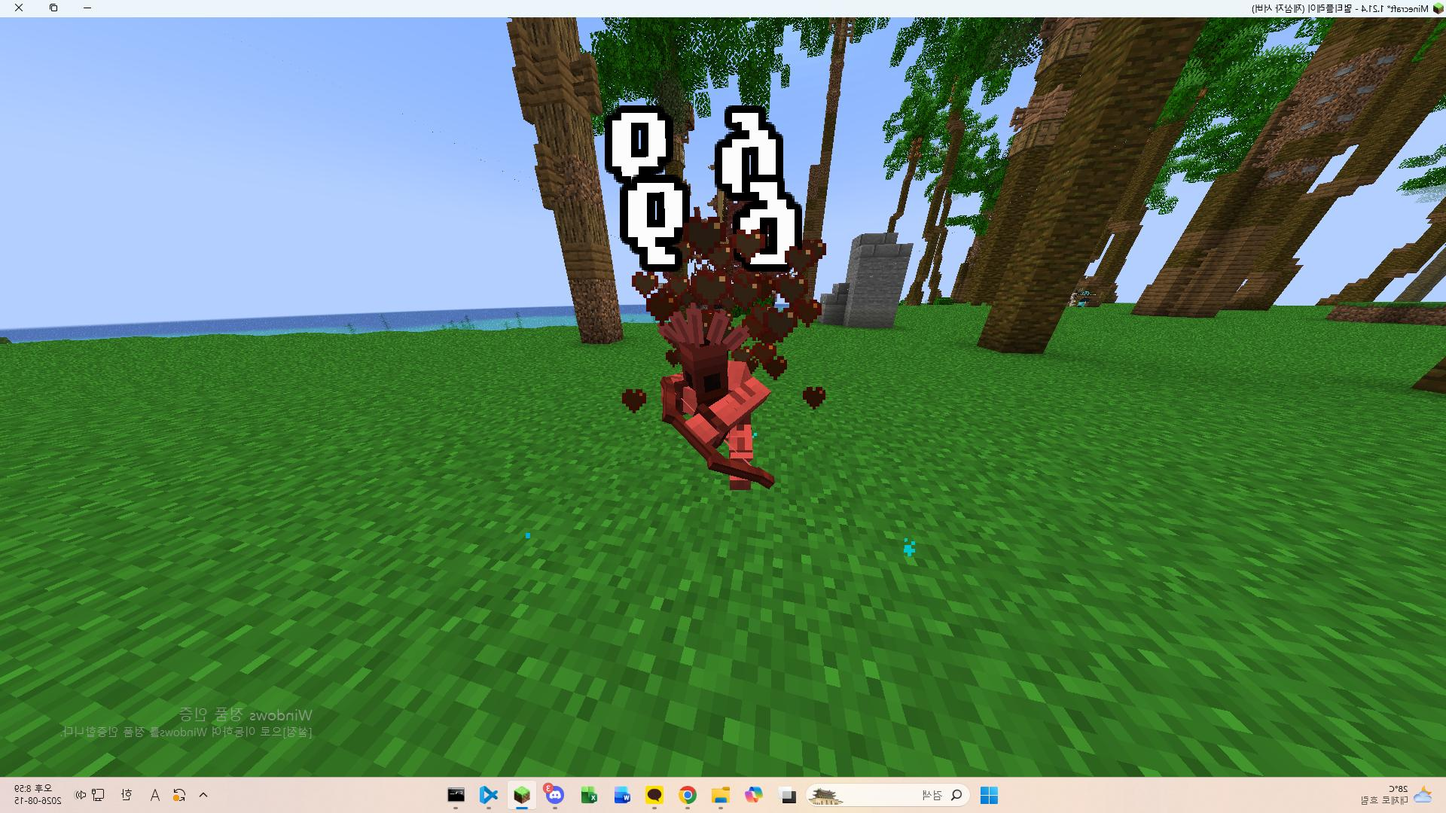bow_indian: (585, 272, 814, 511)
